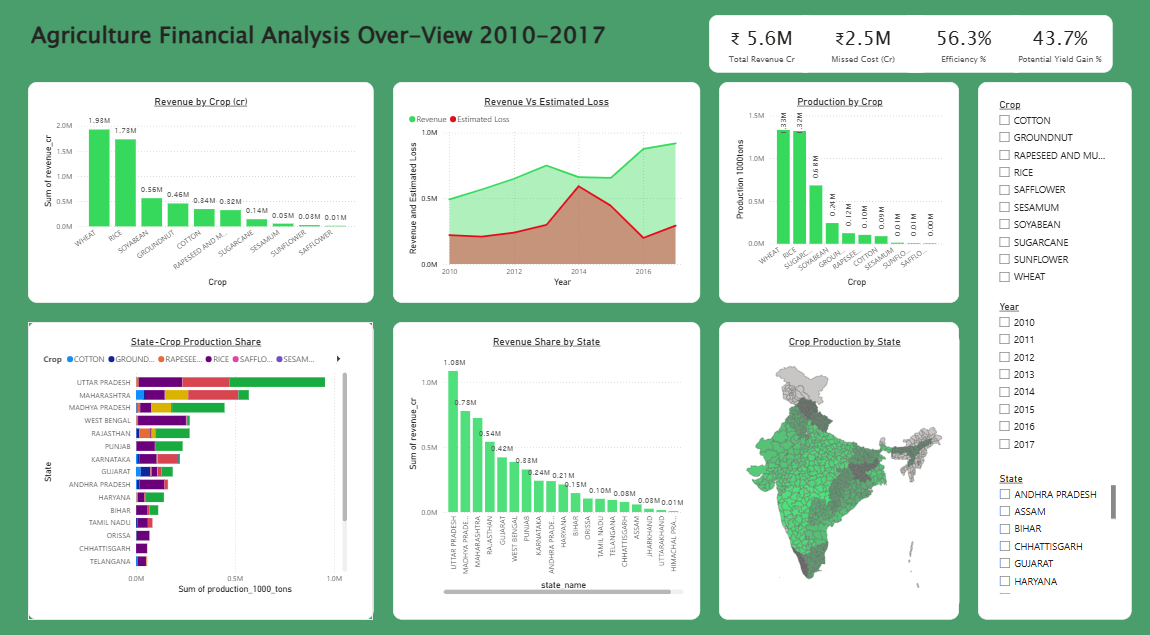

Layout of this report page (visuals, bound fields, positions):
{"tool":"powerbi","page":{"name":"Overview","canvas":[1920,1080],"ordinal":0},"visuals":[{"type":"shape","box":[48,544,576,496],"z":0},{"type":"shape","box":[1632,144,256,896],"z":1000},{"type":"shape","box":[1200,544,400,496],"z":2000},{"type":"shape","box":[656,544,512,496],"z":3000},{"type":"shape","box":[656,144,512,368],"z":4000},{"type":"shape","box":[48,144,576,368],"z":5000},{"type":"card","fields":{"Values":["vw_revenue.Total Revenue Cr"]},"box":[1184,32,176,96],"z":6000},{"type":"card","fields":{"Values":["vw_loss.Efficiency"]},"box":[1504,32,208,96],"z":7000},{"type":"card","fields":{"Values":["vw_loss.Potential Yield Gain %"]},"box":[1680,32,176,96],"z":8000},{"type":"card","fields":{"Values":["vw_loss.Total Loss"]},"box":[1328,32,224,96],"z":9000},{"type":"clusteredColumnChart","title":"Revenue by Crop (cr)","fields":{"Category":["DimCrop.Crop"],"Y":["Sum(vw_revenue.revenue_cr)"]},"box":[64,160,544,336],"z":10000},{"type":"areaChart","title":"Revenue Vs Estimated Loss","fields":{"Category":["DimYear.Year"],"Y":["Sum(vw_revenue.revenue_cr)","Max(vw_loss.revenue_loss_cr)"]},"box":[672,160,480,336],"z":11000},{"type":"barChart","title":"State-Crop Production Share","fields":{"Y":["Sum(agriculture_master.production_1000_tons)"],"Category":["DimState.State"],"Series":["DimCrop.Crop"]},"box":[64,560,528,448],"z":12000},{"type":"clusteredColumnChart","title":"Revenue Share by State","fields":{"Category":["vw_revenue.state_name"],"Y":["Sum(vw_revenue.revenue_cr)"]},"box":[672,560,480,448],"z":13000},{"type":"textbox","box":[48,32,992,80],"z":14000},{"type":"shape","box":[1200,144,400,368],"z":15000},{"type":"clusteredColumnChart","title":"Production by Crop","fields":{"Category":["DimCrop.Crop"],"Y":["Sum(vw_production_yield.total_production_1000_tons)"]},"box":[1216,160,368,336],"z":16000},{"type":"shapeMap","title":"Crop Production by State","fields":{"Category":["vw_production_yield.state_name"],"Value":["Avg(vw_production_yield.production_lead)"]},"box":[1216,560,384,464],"z":17000},{"type":"slicer","fields":{"Values":["DimYear.Year"]},"box":[1648,496,208,288],"z":18000},{"type":"slicer","fields":{"Values":["DimCrop.Crop"]},"box":[1648,160,224,336],"z":19000},{"type":"slicer","fields":{"Values":["DimState.State"]},"box":[1648,784,224,224],"z":20000}]}

Visuals, with their boxes in screenshot pixels (x1, y1, x2, y2), scaled from the page's 1920x1080 canvas onto the 1150x635 screenshot:
shape: 29:320:374:611
shape: 978:85:1131:611
shape: 719:320:958:611
shape: 393:320:700:611
shape: 393:85:700:301
shape: 29:85:374:301
card - vw_revenue.Total Revenue Cr: 709:19:815:75
card - vw_loss.Efficiency: 901:19:1025:75
card - vw_loss.Potential Yield Gain %: 1006:19:1112:75
card - vw_loss.Total Loss: 795:19:930:75
"Revenue by Crop (cr)" clusteredColumnChart: 38:94:364:292
"Revenue Vs Estimated Loss" areaChart: 402:94:690:292
"State-Crop Production Share" barChart: 38:329:355:593
"Revenue Share by State" clusteredColumnChart: 402:329:690:593
textbox: 29:19:623:66
shape: 719:85:958:301
"Production by Crop" clusteredColumnChart: 728:94:949:292
"Crop Production by State" shapeMap: 728:329:958:602
slicer - DimYear.Year: 987:292:1112:461
slicer - DimCrop.Crop: 987:94:1121:292
slicer - DimState.State: 987:461:1121:593
